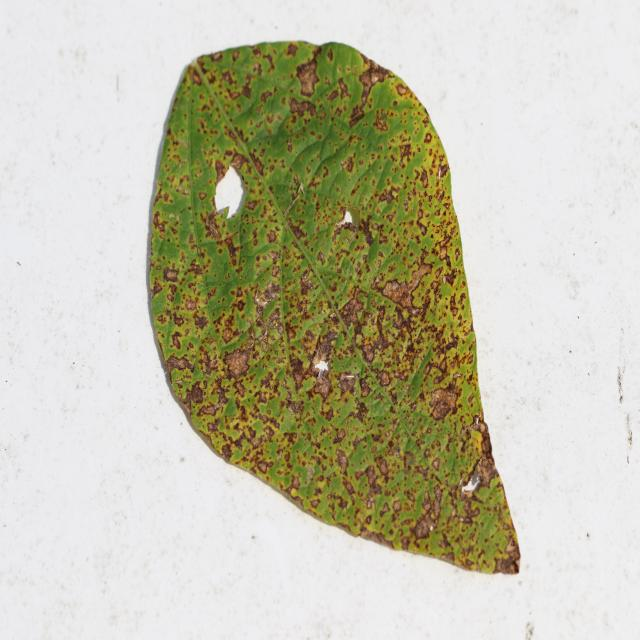Bacterial_Blight: (380, 272, 424, 313), (411, 483, 443, 537), (421, 149, 450, 205), (291, 54, 328, 97), (357, 63, 386, 106), (222, 70, 253, 103), (223, 345, 251, 379), (340, 295, 365, 327), (475, 456, 498, 487), (360, 529, 393, 549), (184, 382, 206, 409), (370, 331, 392, 358), (164, 353, 190, 374), (229, 151, 253, 173), (290, 357, 306, 390), (504, 535, 521, 566), (338, 371, 358, 397), (431, 397, 453, 420), (359, 215, 375, 246), (223, 236, 240, 264), (318, 335, 336, 361), (313, 374, 331, 399), (254, 289, 274, 311), (479, 428, 494, 456), (288, 219, 305, 242), (378, 187, 398, 206), (205, 211, 220, 236), (203, 351, 219, 374), (415, 208, 428, 236), (299, 272, 314, 296), (336, 448, 349, 474), (444, 332, 459, 353), (214, 158, 227, 182), (398, 143, 412, 165), (355, 401, 370, 421), (285, 399, 300, 417), (194, 312, 208, 331), (444, 269, 458, 288), (395, 82, 412, 97), (377, 370, 391, 387), (248, 433, 262, 449), (341, 156, 354, 173), (439, 241, 450, 260), (333, 427, 346, 443), (191, 69, 203, 86), (378, 458, 390, 475), (151, 281, 163, 298), (170, 332, 182, 349), (221, 443, 233, 460), (164, 269, 179, 282), (286, 43, 299, 57), (266, 229, 278, 244), (222, 327, 233, 343), (438, 357, 448, 374), (267, 249, 280, 262), (290, 474, 301, 489), (420, 170, 429, 188), (245, 199, 258, 211), (185, 298, 197, 311), (257, 460, 268, 474), (306, 465, 315, 482), (431, 457, 441, 471), (392, 499, 402, 512), (467, 394, 476, 408), (310, 498, 320, 509), (424, 132, 432, 144), (343, 284, 346, 290), (326, 263, 329, 268), (323, 247, 324, 253)
Soybean: (150, 42, 520, 573)
